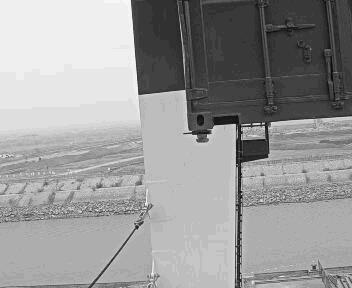twist_lock_1: (89, 166, 153, 208)
